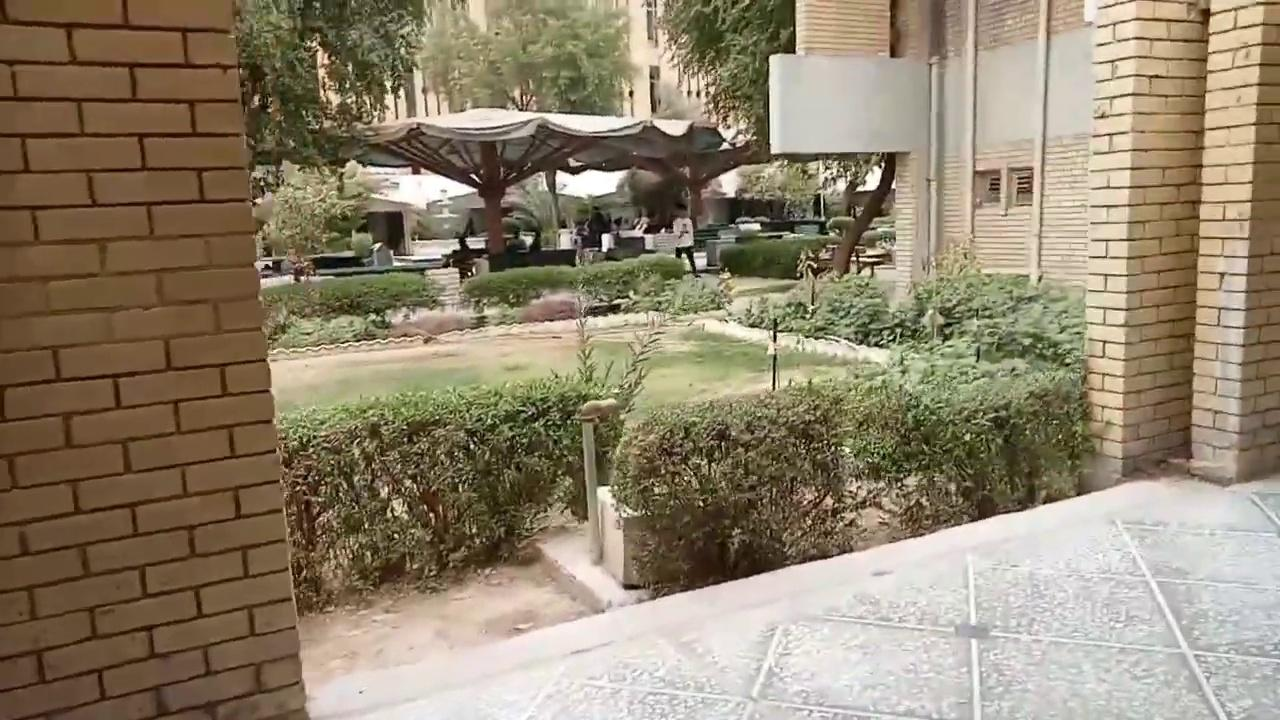person: (670, 202, 701, 277), (280, 246, 312, 282), (586, 204, 609, 247), (632, 207, 650, 234)
tree: (604, 356, 1076, 580), (272, 366, 628, 616), (647, 0, 893, 276), (416, 0, 637, 254), (232, 0, 434, 260), (416, 0, 638, 116), (649, 0, 795, 152), (923, 248, 1079, 368), (256, 156, 372, 263)
